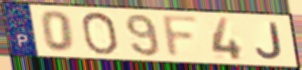0: (39, 9, 78, 54)
4: (209, 15, 247, 62)
9: (123, 13, 163, 58)
F: (160, 14, 202, 60)
J: (254, 21, 285, 61)
O: (79, 10, 121, 56)
